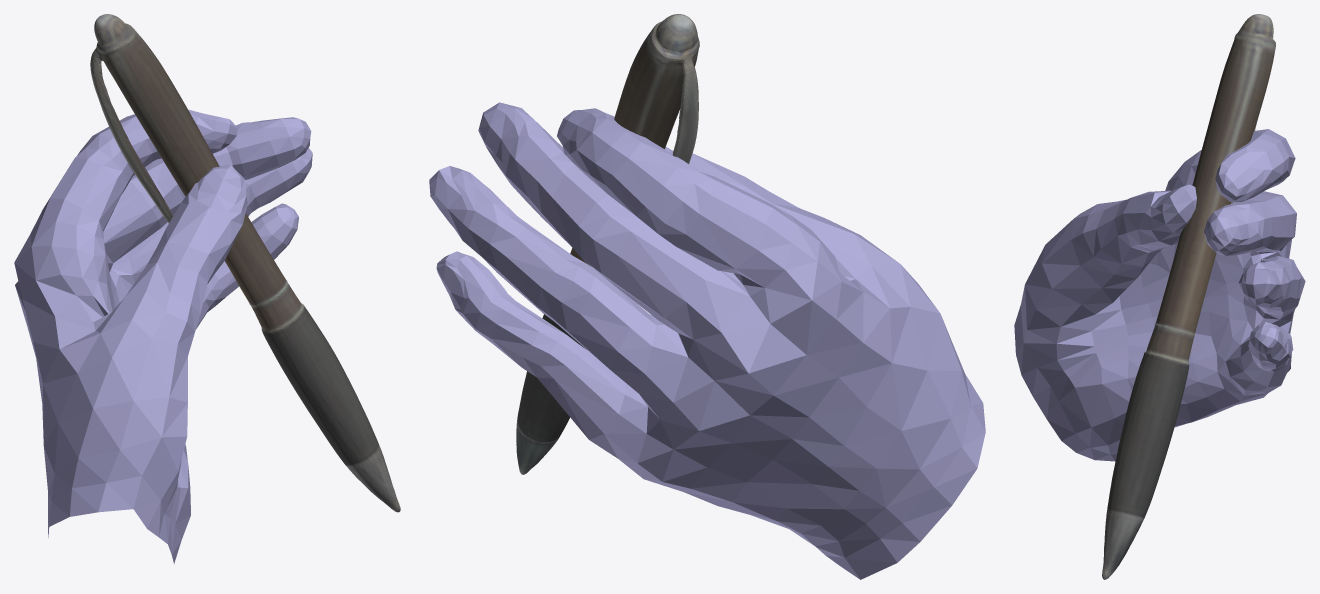
Rendered from frame_0011_source_000011_hand_object.glb.
3 views of the same model, side by side, from view 1: azimuth 30°, elevation 25°; view 2: azimuth 150°, elevation 25°; view 3: azimuth 270°, elevation 25° (orthographic). The views are drawn at different scales.
Visible parts, largest first — view 1: world; view 2: world; view 3: world.
Boxes of the visible parts, left/top/right/bottom form: world: left=14, top=14, right=400, bottom=563; world: left=429, top=14, right=985, bottom=579; world: left=1014, top=14, right=1305, bottom=579.
Size of the model in its own units: 0.1315 by 0.1708 by 0.0953.
